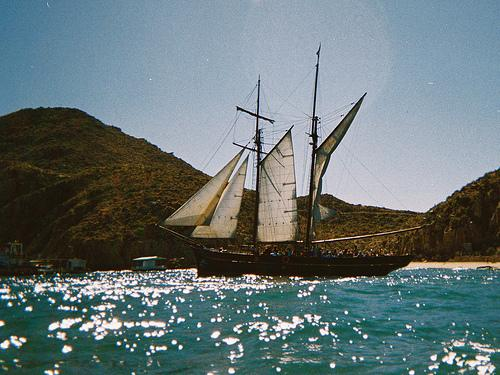Ship: (154, 44, 433, 280)
